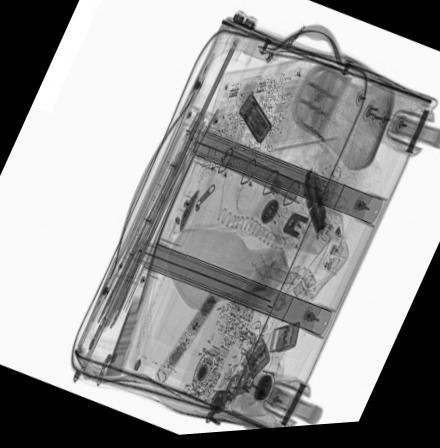Knife: (302, 172, 329, 240)
